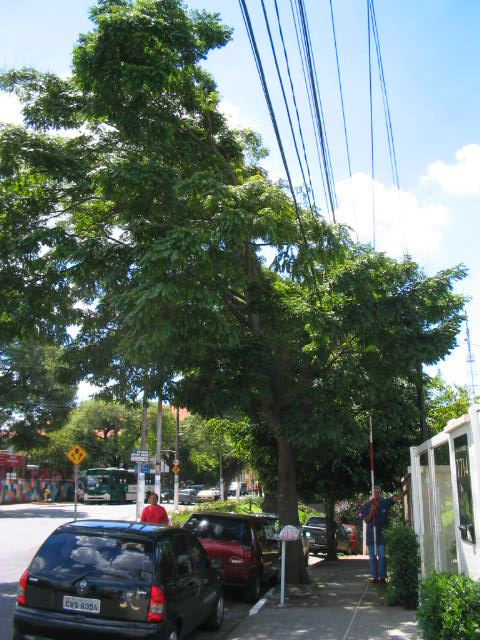crown: (1, 1, 470, 466)
stem: (260, 446, 318, 583)
stick: (361, 415, 382, 583)
tree: (2, 1, 470, 583)
